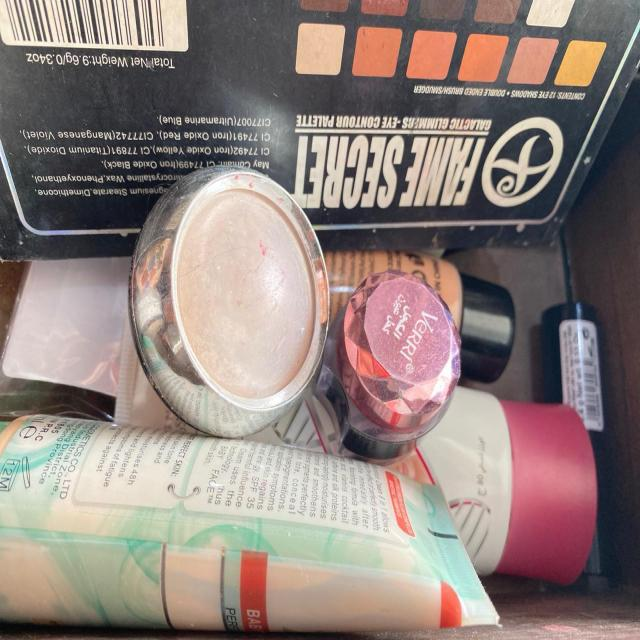lotion: (0, 411, 501, 640)
